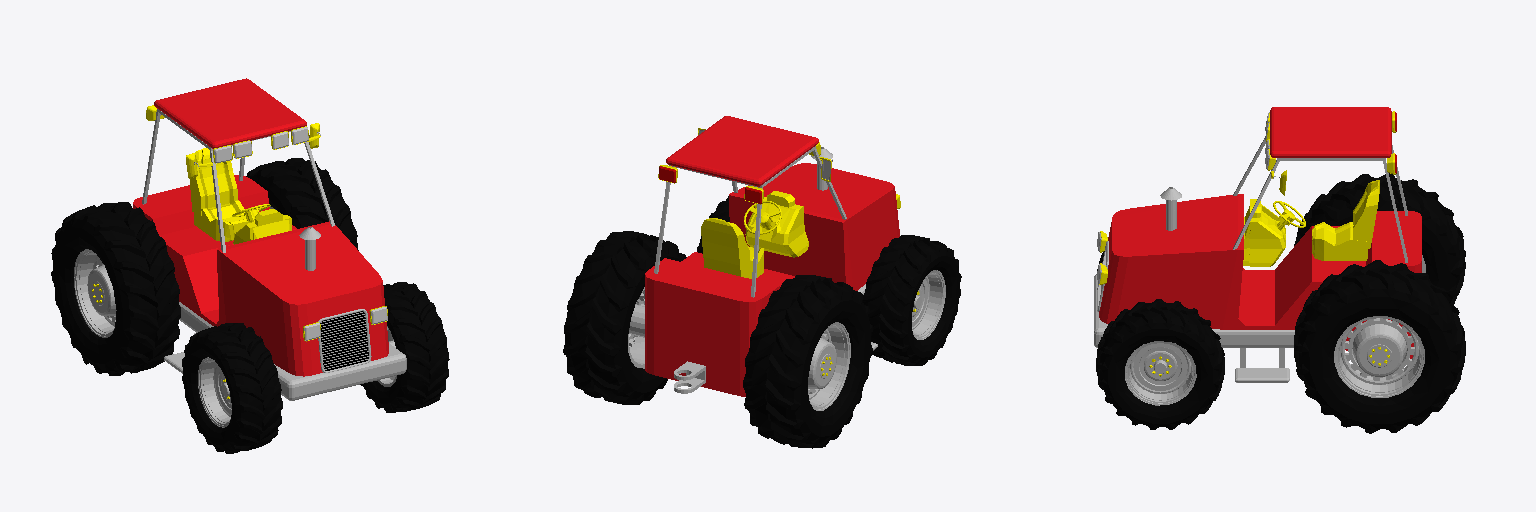
The picture shows the model from 3 angles: view 1: azimuth 30°, elevation 25°; view 2: azimuth 150°, elevation 25°; view 3: azimuth 270°, elevation 25°; orthographic projection.
Parts seen in each view (by area): view 1: main_body, tyre_B, tyre_FR, tyre_FL, roof, chair, botom_body, Rim_B, rim_FR, inside_grill, window, meter_board (+4 smaller); view 2: tyre_B, main_body, tyre_FR, roof, Rim_B, chair, meter_board, rim_FR, window, conector; view 3: tyre_B, main_body, tyre_FL, roof, Rim_B, rim_FL, chair, meter_board, botom_body, window, L_ladder, exoz.
Boxes of the visible parts, x1,y1,x2,y2 form: main_body: [133, 175, 388, 376]; tyre_B: [51, 158, 358, 375]; tyre_FR: [182, 323, 282, 453]; tyre_FL: [360, 282, 449, 412]; roof: [154, 78, 306, 148]; chair: [190, 148, 270, 241]; botom_body: [179, 302, 406, 400]; Rim_B: [74, 206, 275, 337]; rim_FR: [198, 357, 231, 427]; inside_grill: [320, 311, 368, 370]; window: [142, 109, 334, 252]; meter_board: [233, 209, 291, 244]; tyre_B: [563, 231, 872, 448]; main_body: [645, 163, 899, 396]; tyre_FR: [863, 235, 961, 365]; roof: [666, 116, 818, 186]; Rim_B: [628, 287, 850, 410]; chair: [701, 201, 781, 278]; meter_board: [745, 191, 808, 257]; rim_FR: [912, 270, 945, 339]; window: [654, 146, 846, 297]; conector: [674, 361, 705, 393]; tyre_B: [1294, 173, 1465, 433]; main_body: [1099, 194, 1421, 358]; tyre_FL: [1096, 299, 1224, 429]; roof: [1270, 107, 1391, 157]; Rim_B: [1334, 255, 1425, 397]; rim_FL: [1125, 341, 1196, 405]; chair: [1273, 180, 1379, 260]; meter_board: [1243, 199, 1285, 266]; botom_body: [1094, 274, 1294, 347]; window: [1233, 136, 1407, 262]; L_ladder: [1235, 348, 1289, 382]; exoz: [1160, 187, 1181, 230].
Size of the model in its own units: 2.03 by 2.09 by 2.78.
12 materials, 3 textured.